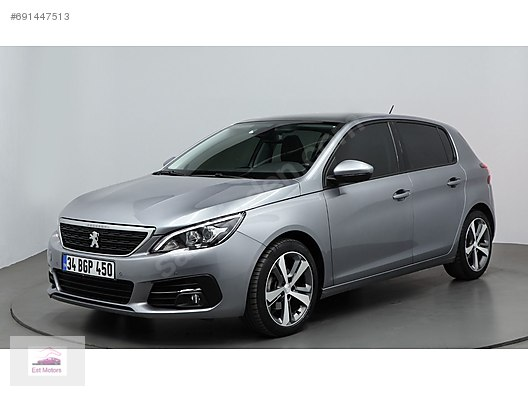peugeot: (40, 108, 503, 333)
